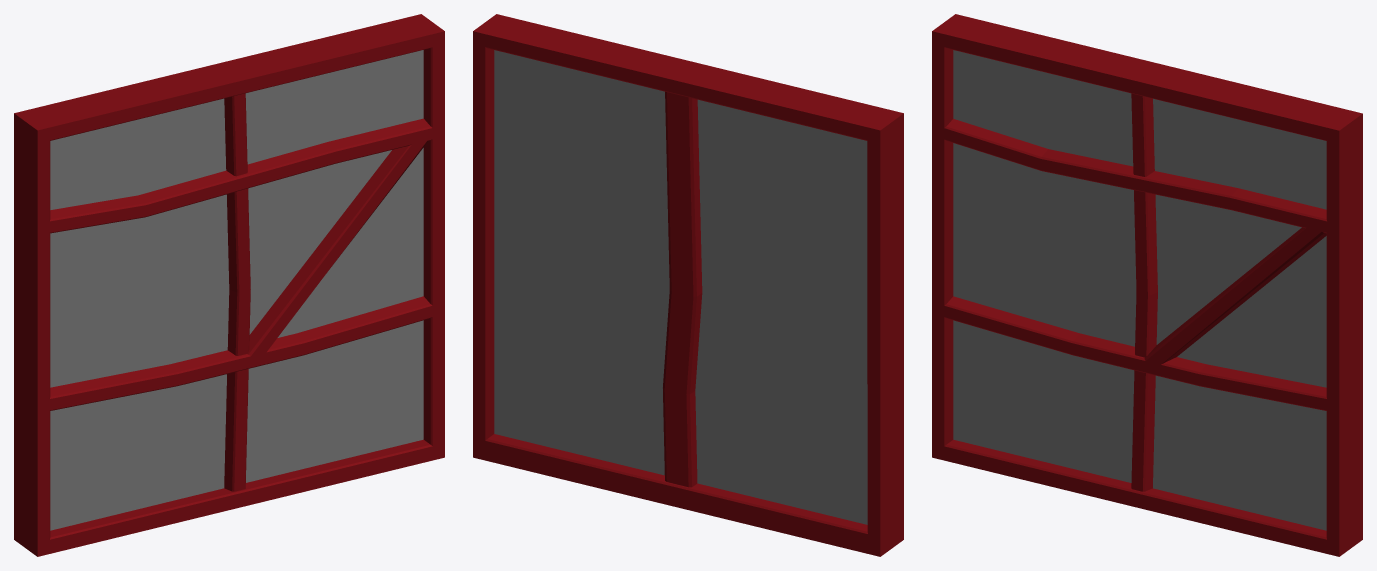
File: SM_MH_01_Wood_01_Wall_01.fbx
3 renders of one model, left to right at view 1: azimuth 30°, elevation 25°; view 2: azimuth 150°, elevation 25°; view 3: azimuth 330°, elevation 25°, orthographic.
Visible parts, largest first — view 1: SM_MH_01_Wood_01_Wall_01_LOD0; view 2: SM_MH_01_Wood_01_Wall_01_LOD0; view 3: SM_MH_01_Wood_01_Wall_01_LOD0.
Boxes of the visible parts, bbox=[...] form: SM_MH_01_Wood_01_Wall_01_LOD0: bbox=[14, 14, 444, 556]; SM_MH_01_Wood_01_Wall_01_LOD0: bbox=[473, 14, 903, 556]; SM_MH_01_Wood_01_Wall_01_LOD0: bbox=[932, 14, 1362, 556].
Size of what is drawn, in the model's own units: 300 by 300 by 30.
